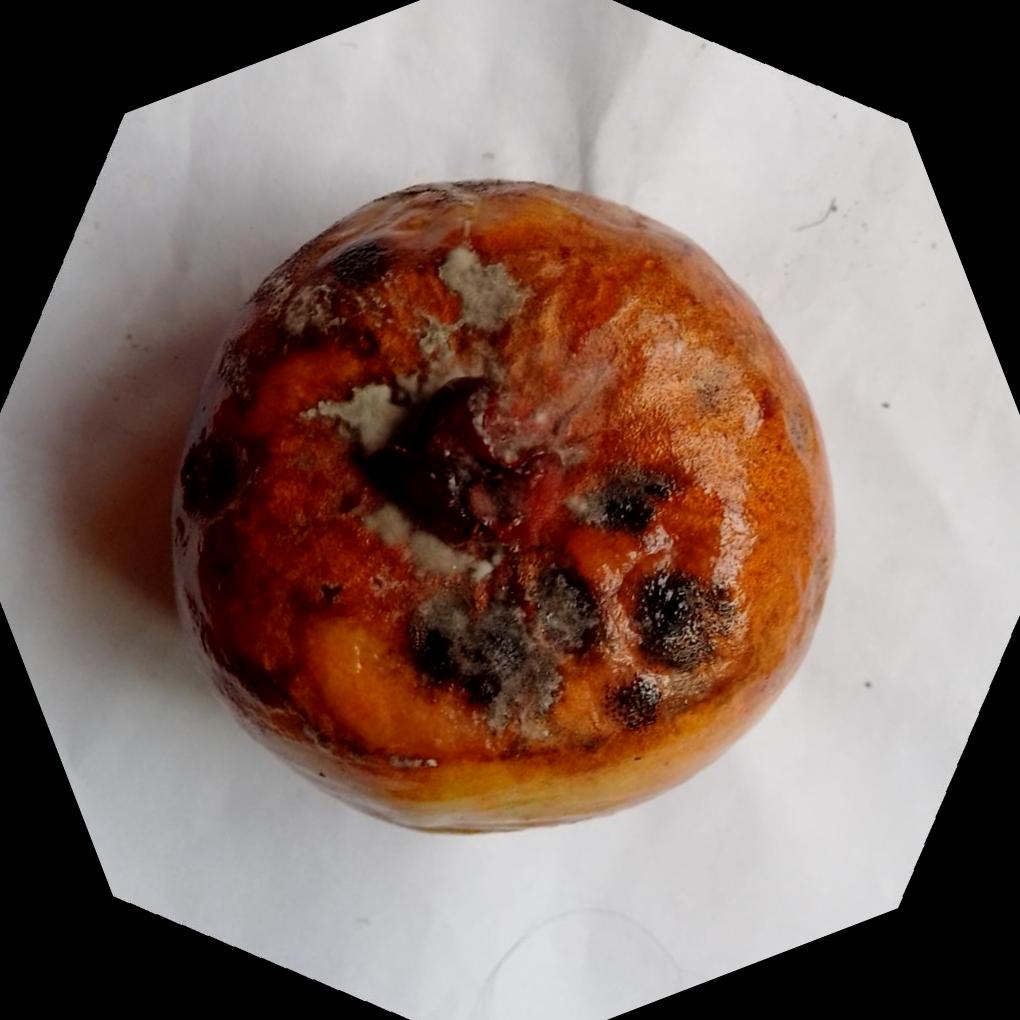FreshOrange: (166, 172, 835, 832)
